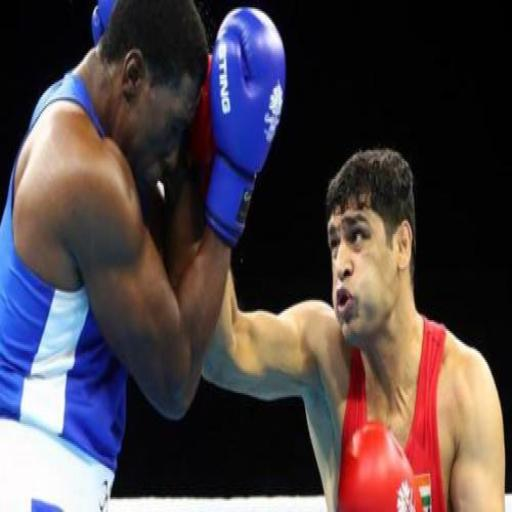boxing: (148, 82, 501, 512), (0, 0, 286, 510)
